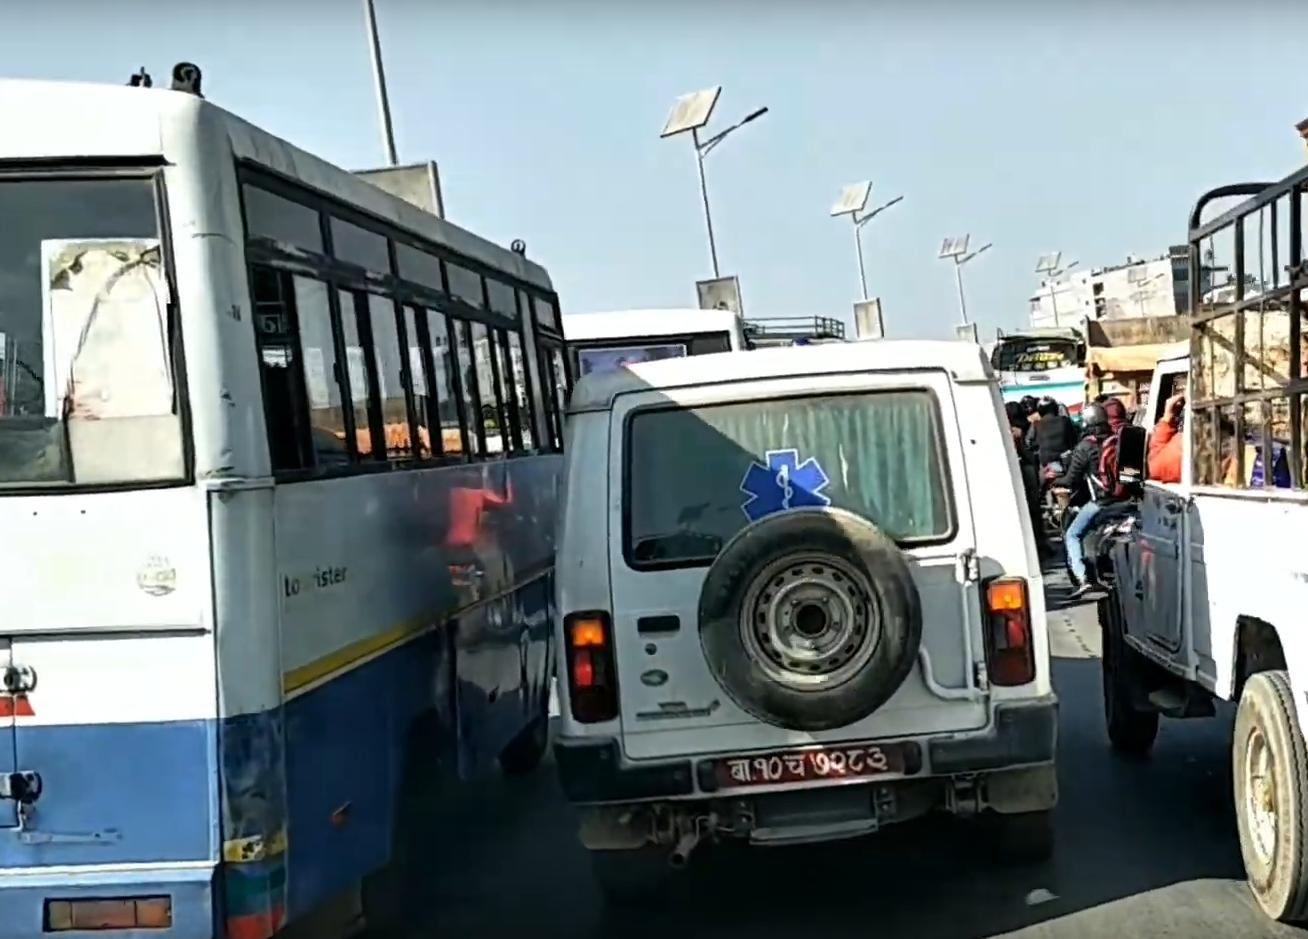ambulance: (537, 327, 1078, 917)
bus: (0, 67, 582, 939)
transport_vehicle: (1087, 127, 1308, 924)
